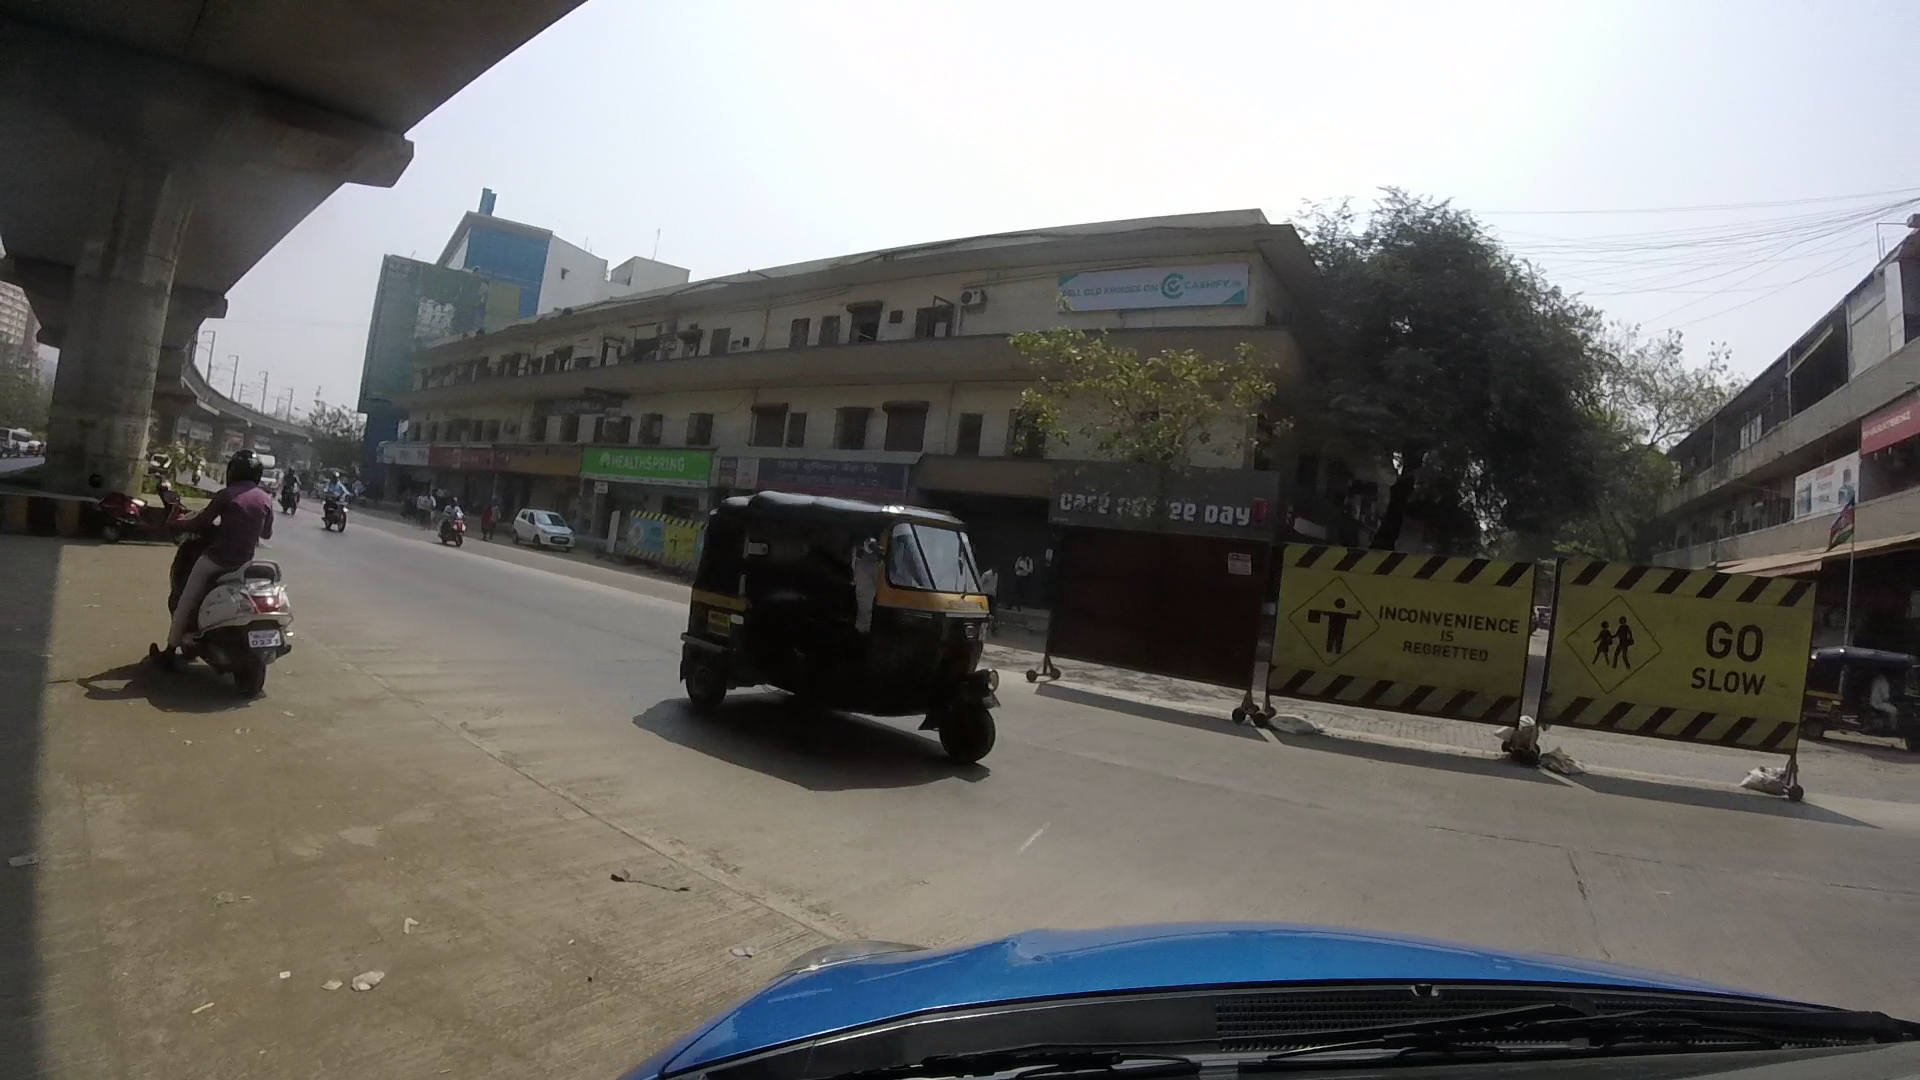bike/scooter: (158, 454, 311, 704), (311, 472, 361, 533), (429, 495, 475, 554)
rickshaw: (680, 473, 1005, 766)
